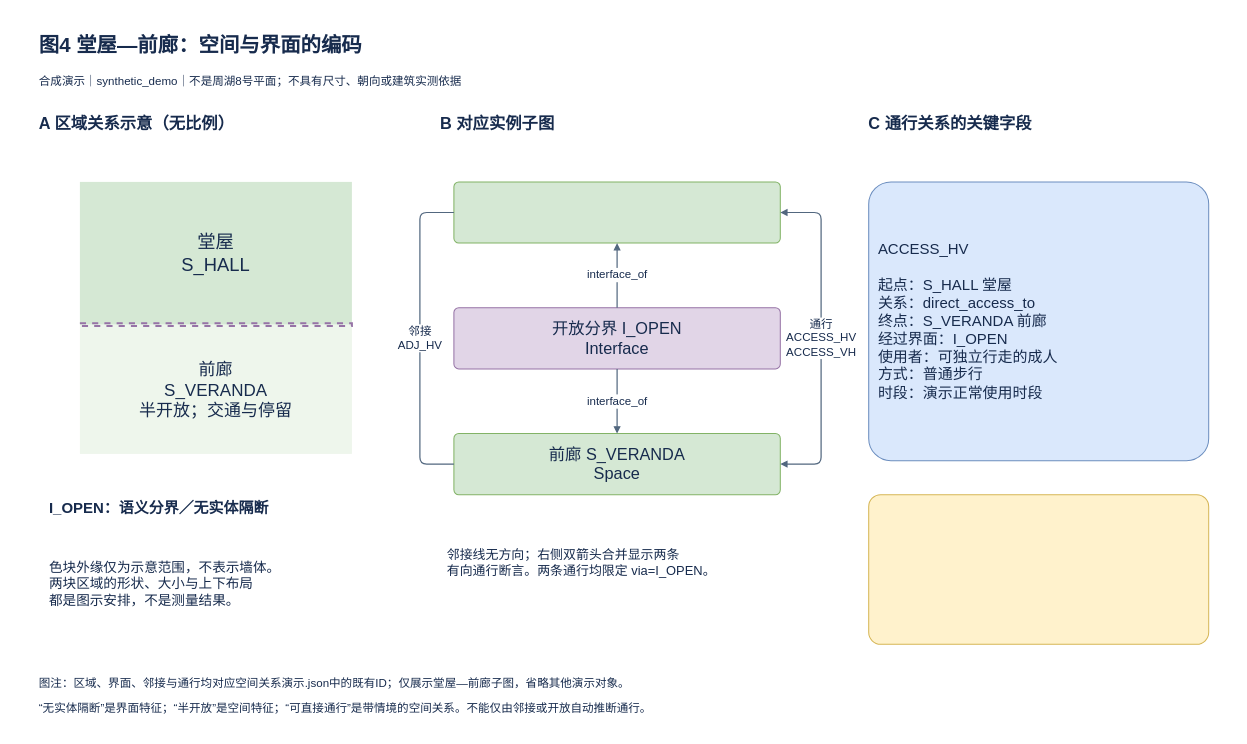
This 1247x744 diagram has some shape labels left out. Here are the shapes that lost their labels. From the top down, the box of each, then its label:
(453, 181, 781, 243): 堂屋 S_HALL Space
(868, 494, 1209, 645): 实例依据：E_DEMO 人工设定的教学场景 模型依据：BOT03、ISM03 文献支持表达方法， 不证明此场景是实际住宅。
